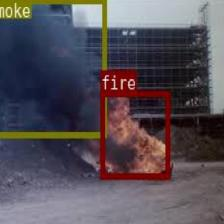fire: (99, 90, 169, 177)
smoke: (0, 0, 105, 136)
